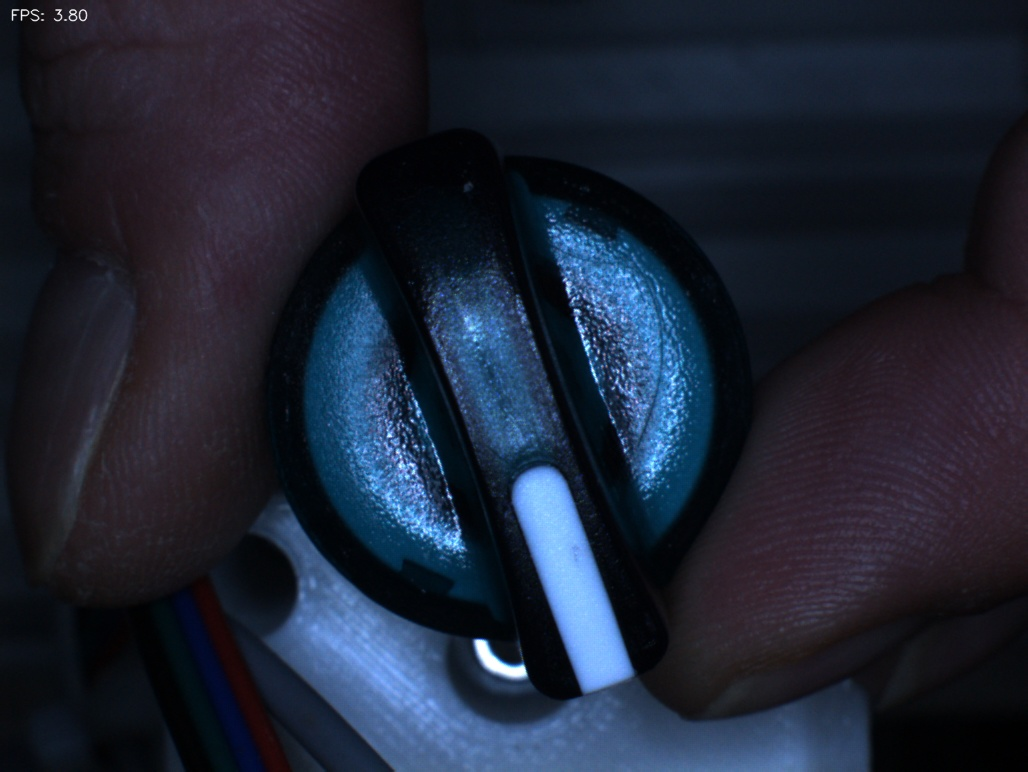PointNoir: (541, 515, 620, 590)
